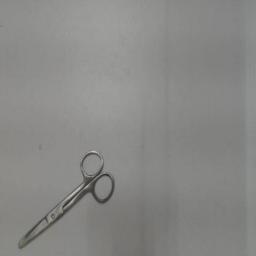Dressing Scissors: (13, 142, 121, 254)
